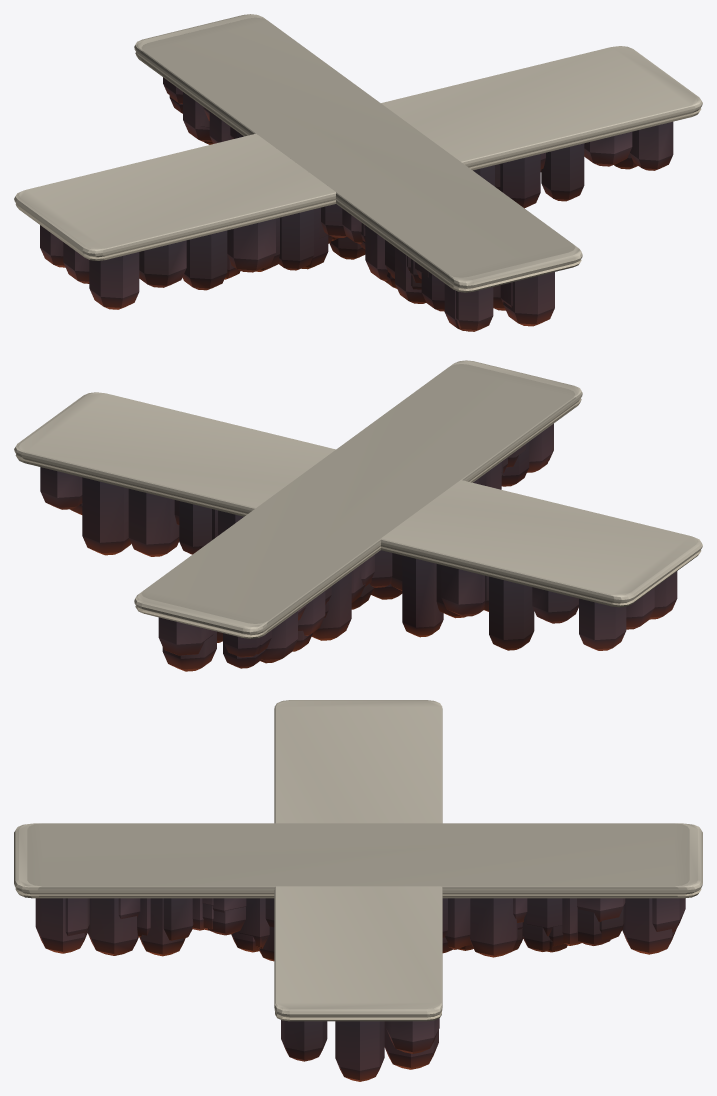
Rendered from volcano-3-DuwX3oQJ.glb.
The picture shows the model from 3 angles, top to bottom: view 1: azimuth 30°, elevation 25°; view 2: azimuth 150°, elevation 25°; view 3: azimuth 270°, elevation 25°; orthographic projection. The views are drawn at different scales.
Visible parts, largest first — view 1: block_44x2x10#1, block_9x2x40_grate#0, block_9x2x41#1, block_21.5x2x9#1, block_8x2x40_grate#1; view 2: block_44x2x10#1, block_9x2x40_grate#0, block_9x2x41#1, block_8x2x40#0, block_21.5x2x9#1; view 3: block_9x2x40_grate#0, block_44x2x10#1, block_9x2x41#1, block_8x2x40_grate#1, block_8x2x30_grate#1, block_8x2x40#0.
Part boxes in pixels (x1,y1,x2,y2): block_44x2x10#1: [14, 46, 702, 309]; block_9x2x40_grate#0: [140, 17, 575, 330]; block_9x2x41#1: [134, 14, 582, 331]; block_21.5x2x9#1: [256, 164, 500, 271]; block_8x2x40_grate#1: [204, 141, 512, 307]; block_44x2x10#1: [14, 392, 702, 650]; block_9x2x40_grate#0: [141, 364, 576, 671]; block_9x2x41#1: [134, 360, 582, 661]; block_8x2x40#0: [223, 565, 374, 668]; block_21.5x2x9#1: [212, 509, 465, 618]; block_9x2x40_grate#0: [27, 823, 689, 954]; block_44x2x10#1: [274, 700, 442, 1081]; block_9x2x41#1: [14, 823, 702, 961]; block_8x2x40_grate#1: [140, 898, 624, 956]; block_8x2x30_grate#1: [137, 898, 581, 952]; block_8x2x40#0: [202, 903, 565, 948].
Size of the model in its own units: 44 by 6.84 by 41.
